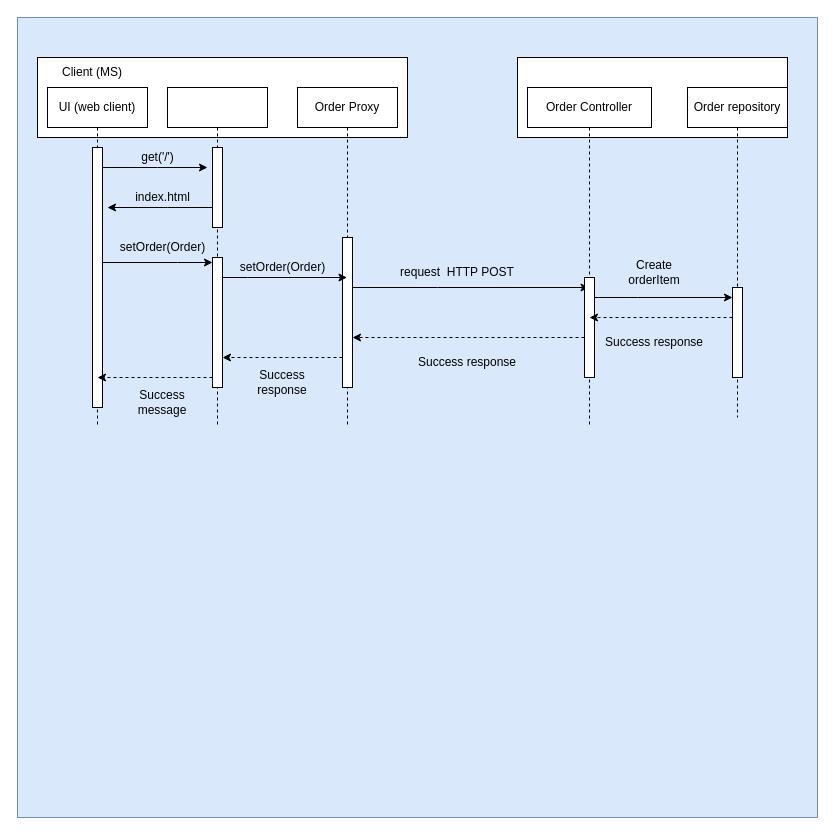
The diagram is 835 pixels wide and 835 high, and some of its shapes have lost their labels. Here are the shapes that lost their labels. From the top down, the centre of each, then its label:
pixel 652 97: Order (MS)
pixel 217 257: Client Controller
